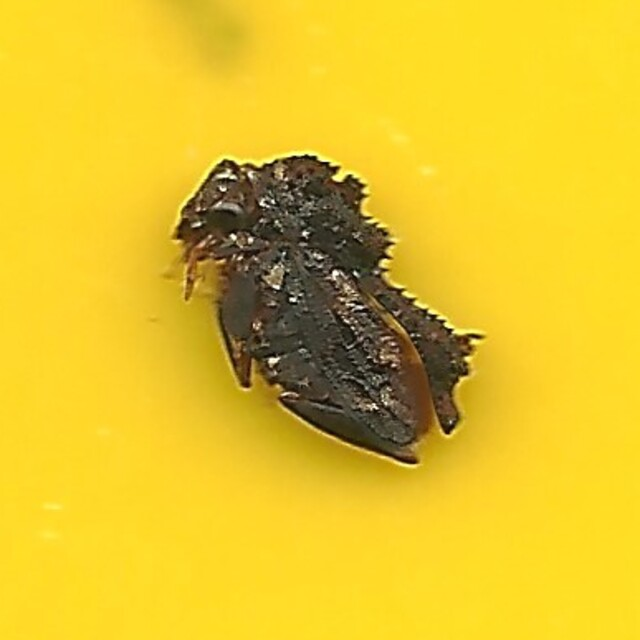Hemiptera: (165, 156, 475, 484)
